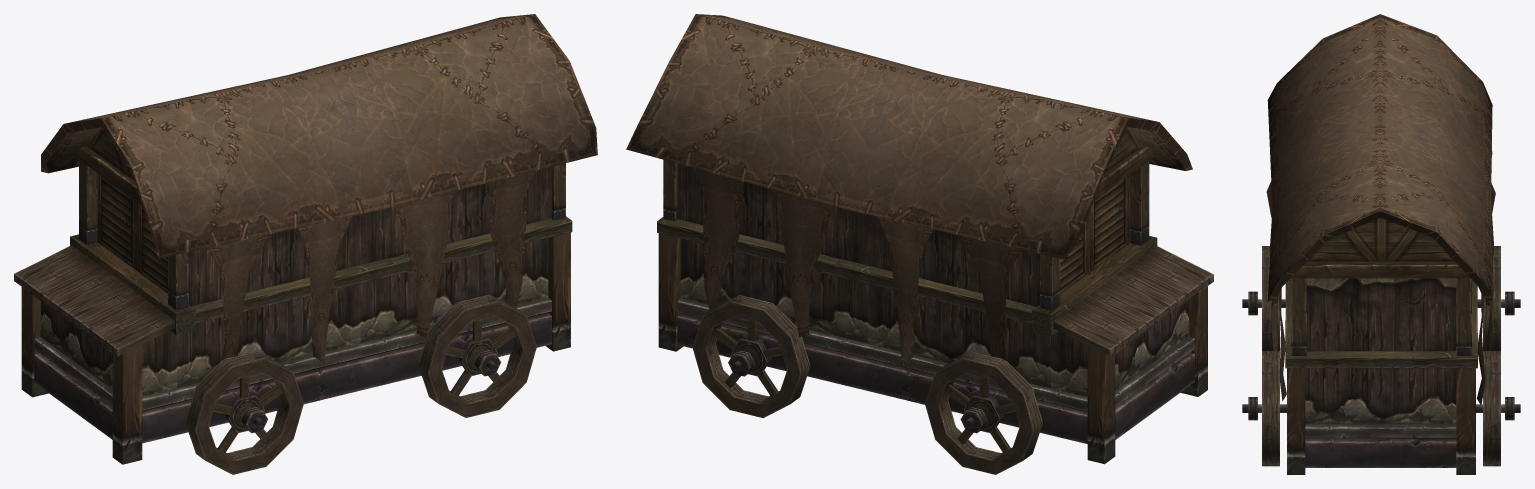
The model's file is Z_pengche.fbx.
The picture shows the model from 3 angles, left to right: view 1: azimuth 30°, elevation 25°; view 2: azimuth 150°, elevation 25°; view 3: azimuth 270°, elevation 25°; orthographic projection. The views are drawn at different scales.
Visible parts, largest first — view 1: Z_pengche; view 2: Z_pengche; view 3: Z_pengche.
Boxes of the visible parts, left/top/right/bottom form: Z_pengche: left=14, top=14, right=597, bottom=474; Z_pengche: left=626, top=14, right=1213, bottom=474; Z_pengche: left=1242, top=14, right=1520, bottom=474.
Size of the model in its own units: 869 by 567 by 474.
